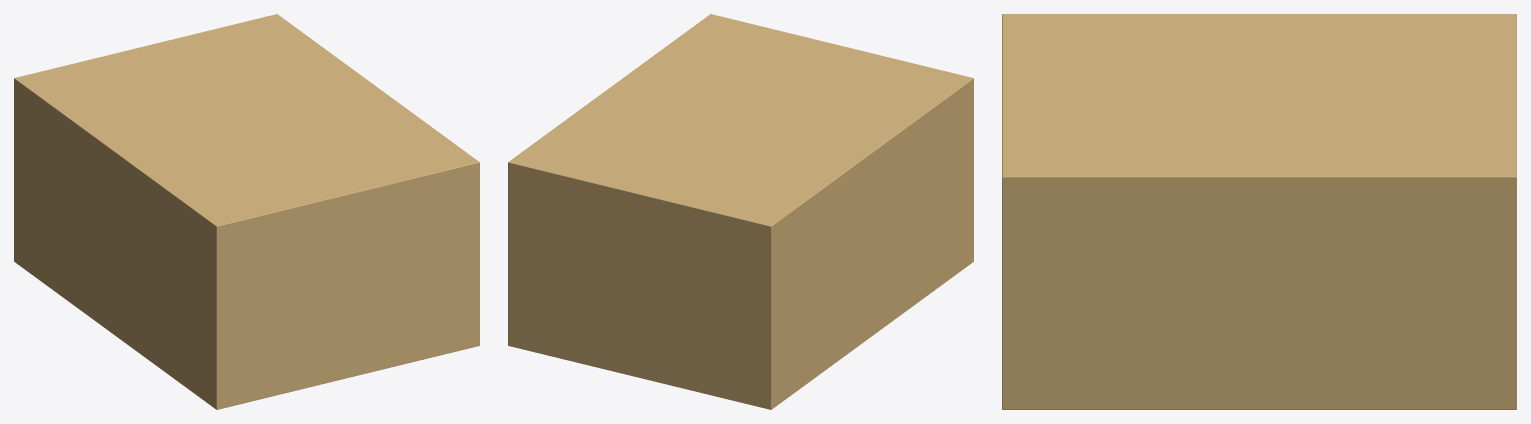
File: box_600x800x400-Body.dae
The picture shows the model from 3 angles, left to right: view 1: azimuth 30°, elevation 25°; view 2: azimuth 150°, elevation 25°; view 3: azimuth 270°, elevation 25°; orthographic projection. The views are drawn at different scales.
Visible parts, largest first — view 1: node0; view 2: node0; view 3: node0.
Boxes of the visible parts, x1,y1,x2,y2 form: node0: [14, 14, 479, 409]; node0: [508, 14, 973, 409]; node0: [1002, 14, 1516, 409].
Bounding box in the file's own units: 0.6 × 0.8 × 0.4.
